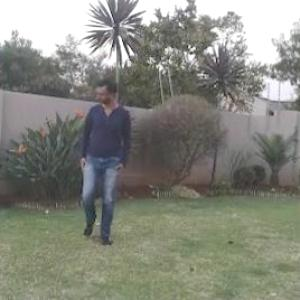follow: (75, 74, 130, 245)
